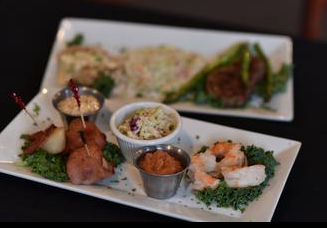curry: (192, 181, 262, 213), (21, 149, 69, 181), (244, 145, 279, 177)
sushi: (109, 101, 182, 154), (134, 144, 190, 200)
